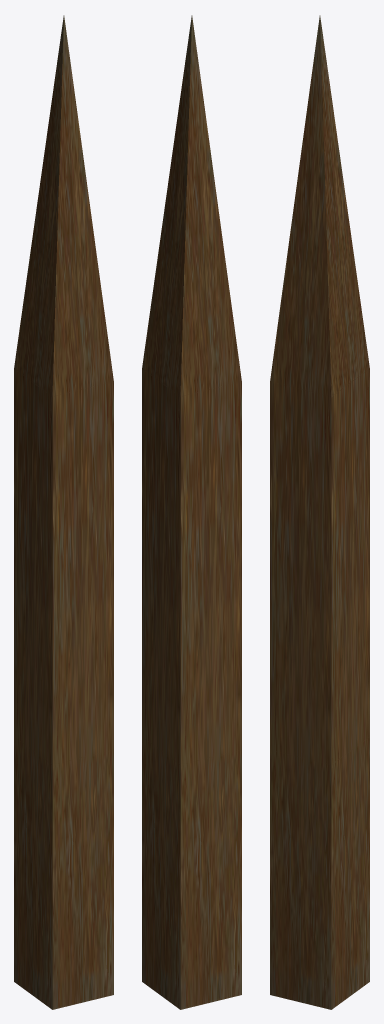
The model's file is EREBOR_SPIKE.fbx.
The picture shows the model from 3 angles, left to right: view 1: azimuth 30°, elevation 25°; view 2: azimuth 210°, elevation 25°; view 3: azimuth 330°, elevation 25°; orthographic projection.
Visible parts, largest first — view 1: EREBOR_SPIKE; view 2: EREBOR_SPIKE; view 3: EREBOR_SPIKE.
Boxes of the visible parts, box(x1,y1,x2,y2) form: EREBOR_SPIKE: box(14, 15, 113, 1009); EREBOR_SPIKE: box(142, 15, 241, 1009); EREBOR_SPIKE: box(270, 15, 369, 1009).
Size of the model in its own units: 535 by 8099 by 579.
Materials: 1 (1 with a texture image).
